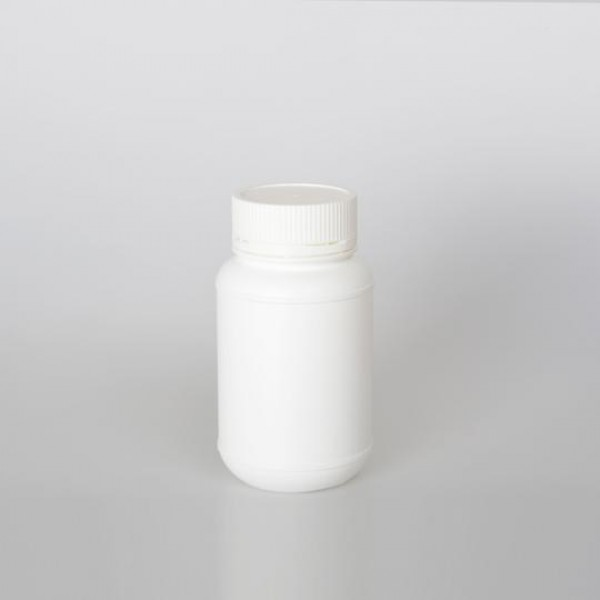medicinejar: (191, 169, 391, 502)
